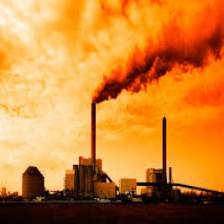smoke: (90, 36, 224, 105)
